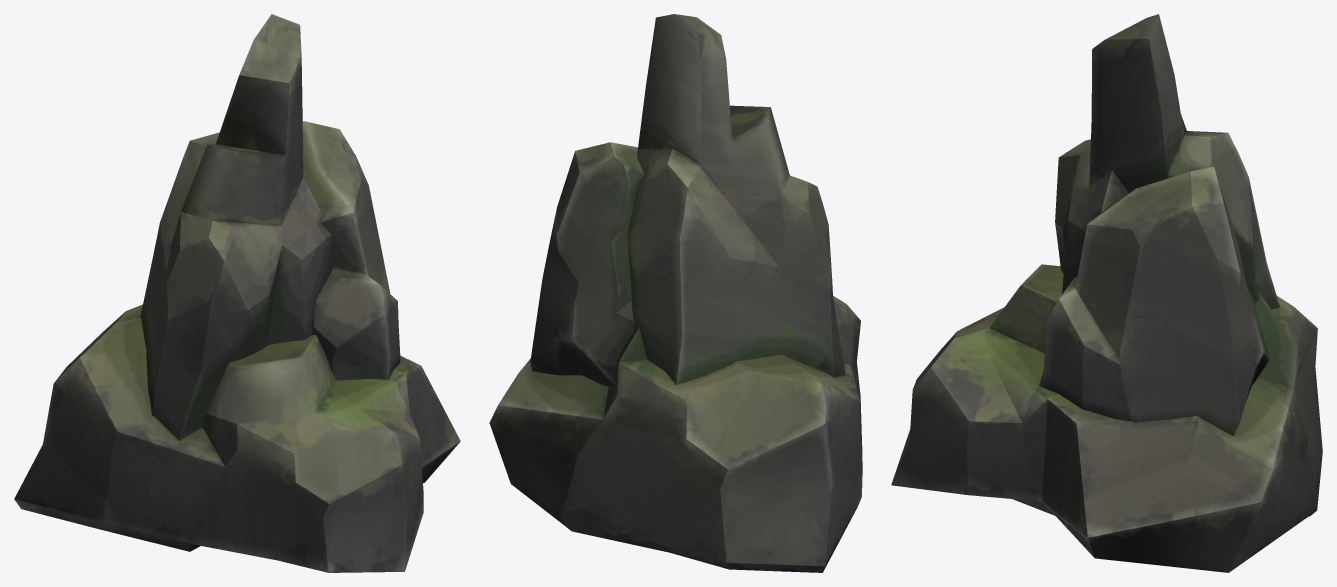
Rendered from Rock5.glb.
3 renders of one model, left to right at view 1: azimuth 30°, elevation 25°; view 2: azimuth 150°, elevation 25°; view 3: azimuth 270°, elevation 25°, orthographic. The views are drawn at different scales.
Visible parts, largest first — view 1: Rock_5; view 2: Rock_5; view 3: Rock_5.
Boxes of the visible parts, box(x1,y1,x2,y2) form: Rock_5: box(14, 14, 460, 572); Rock_5: box(489, 14, 862, 572); Rock_5: box(891, 14, 1322, 572).
Bounding box in the file's own units: 1.29 × 1.69 × 1.32.
1 material, 1 textured.
